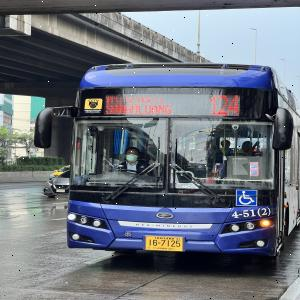Bus Line Number: (205, 91, 244, 121)
Bus Side Number: (229, 205, 273, 220)
Destination Sign: (102, 92, 176, 115)
TSB-Bus: (34, 63, 300, 260)
